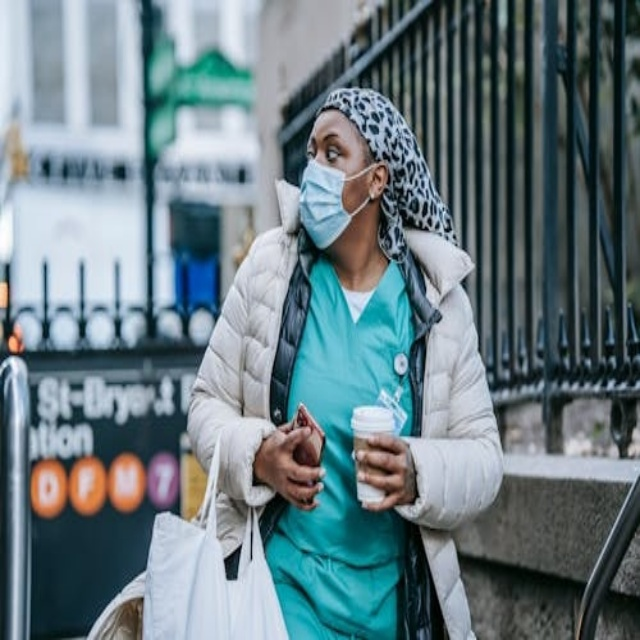Mascara: (298, 158, 376, 250)
Sin_gafas: (303, 127, 358, 169)
Sin_guantes: (259, 418, 327, 509), (352, 433, 414, 509)
